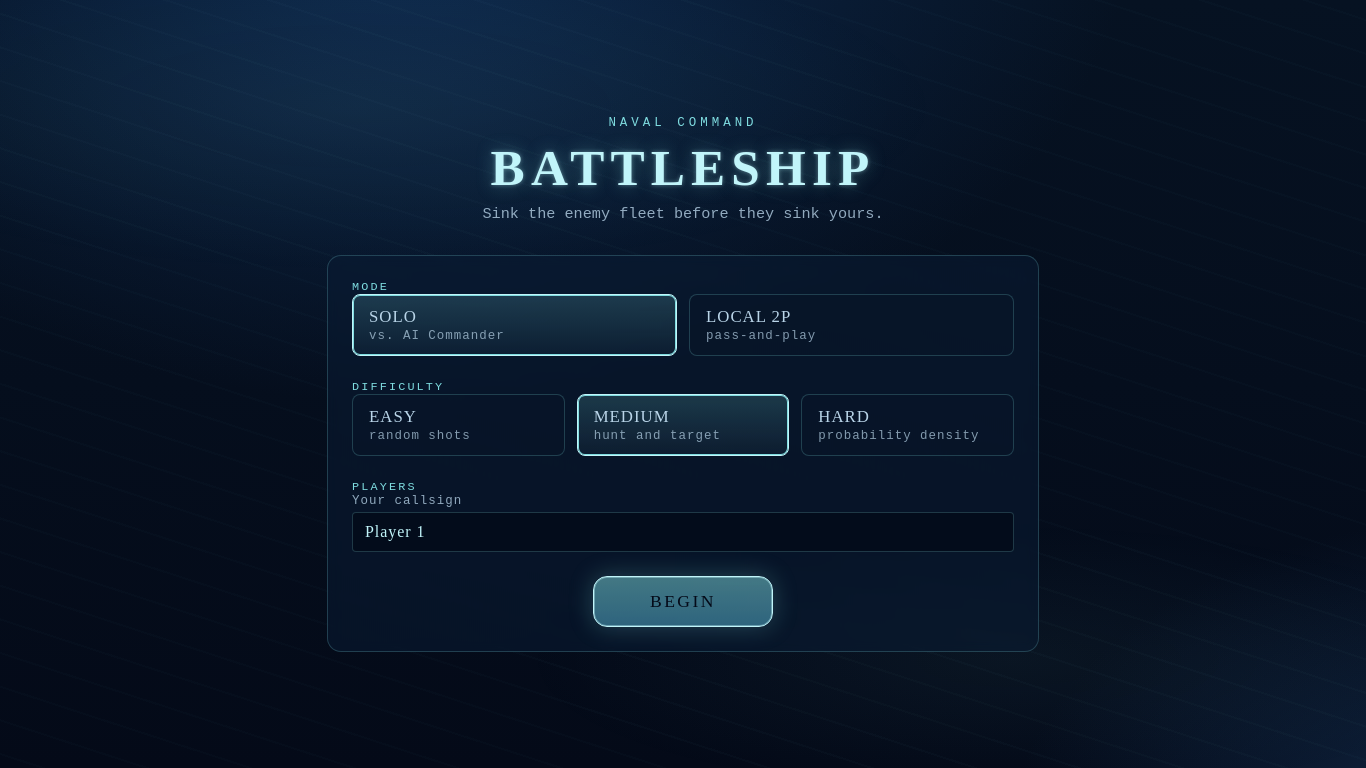
Test: Quit button (QA §5) › PlacementScreen: Quit DOES NOT confirm when nothing is placed yet
The width and height of the screenshot is (1366, 768).
Click the button with aria-label "begin placement" at (683, 602), box [593,576,773,627]
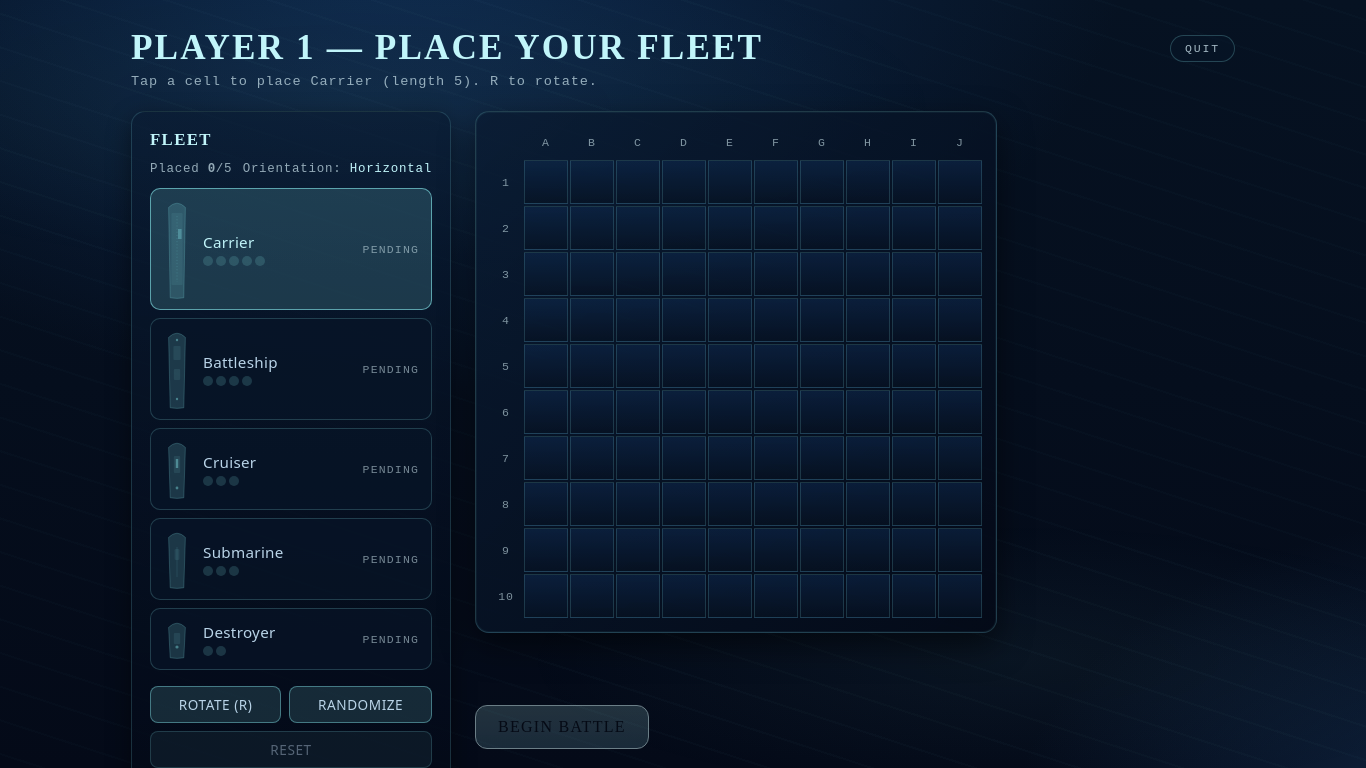
Click the button with aria-label "quit to home" at (1202, 48), box [1170,34,1235,62]
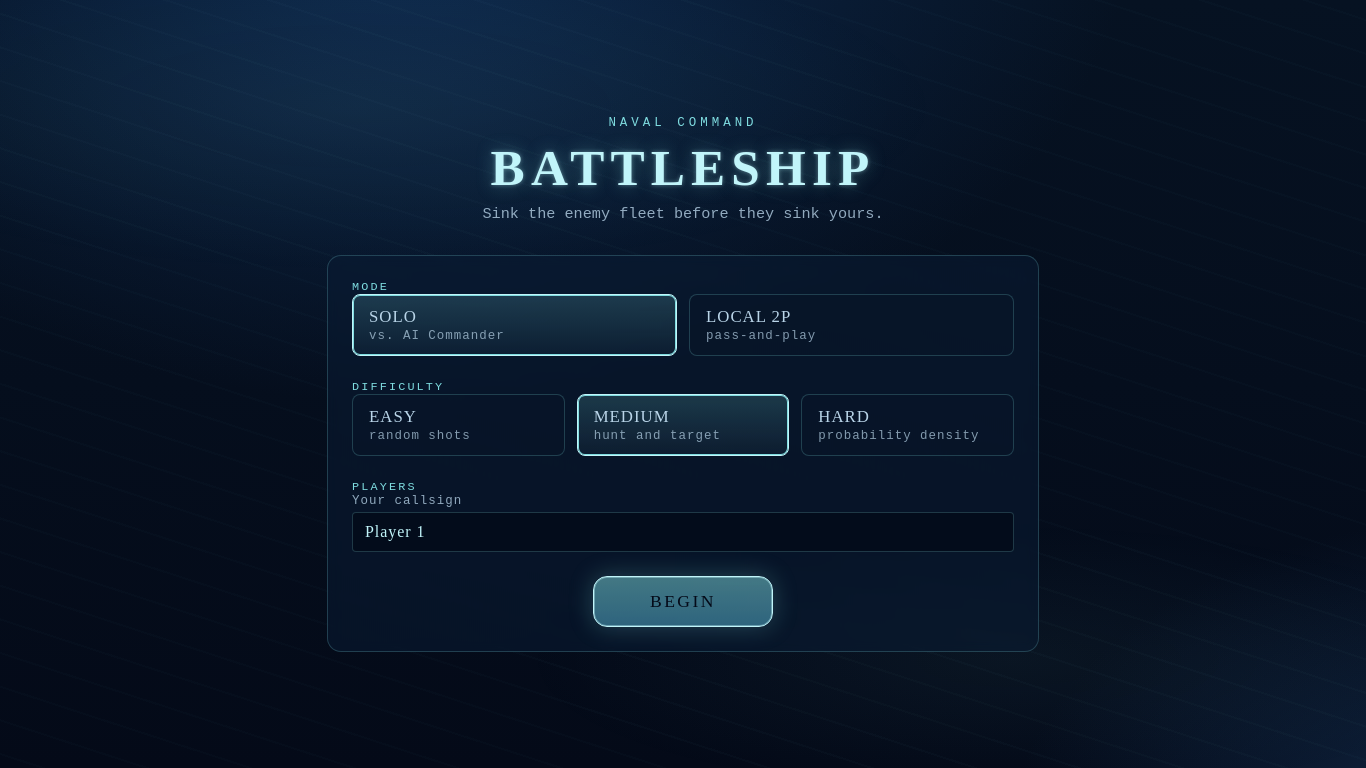
Check: the element named "home" is shown, box [303,84,1063,684]
